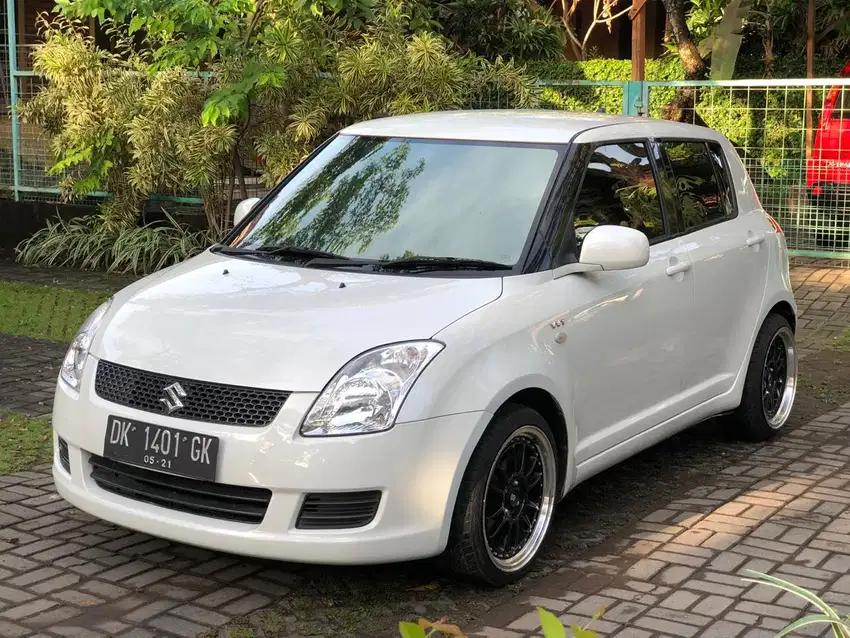plate: (106, 414, 218, 483)
